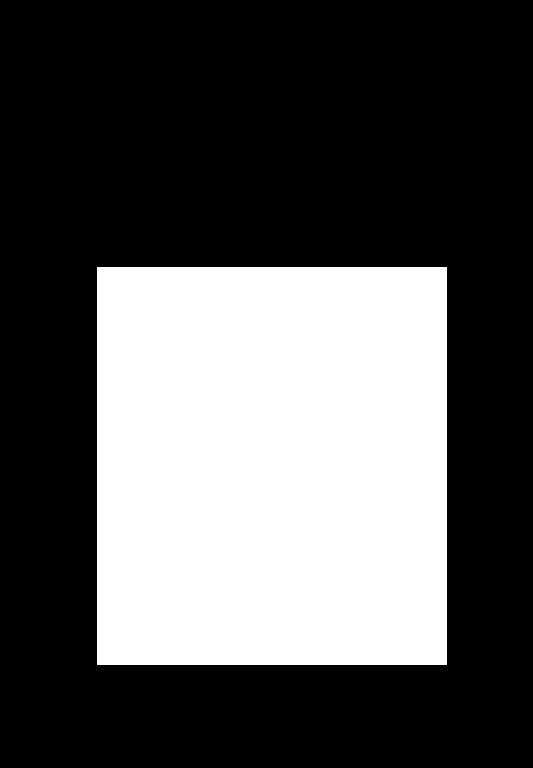table: (97, 267, 446, 664)
